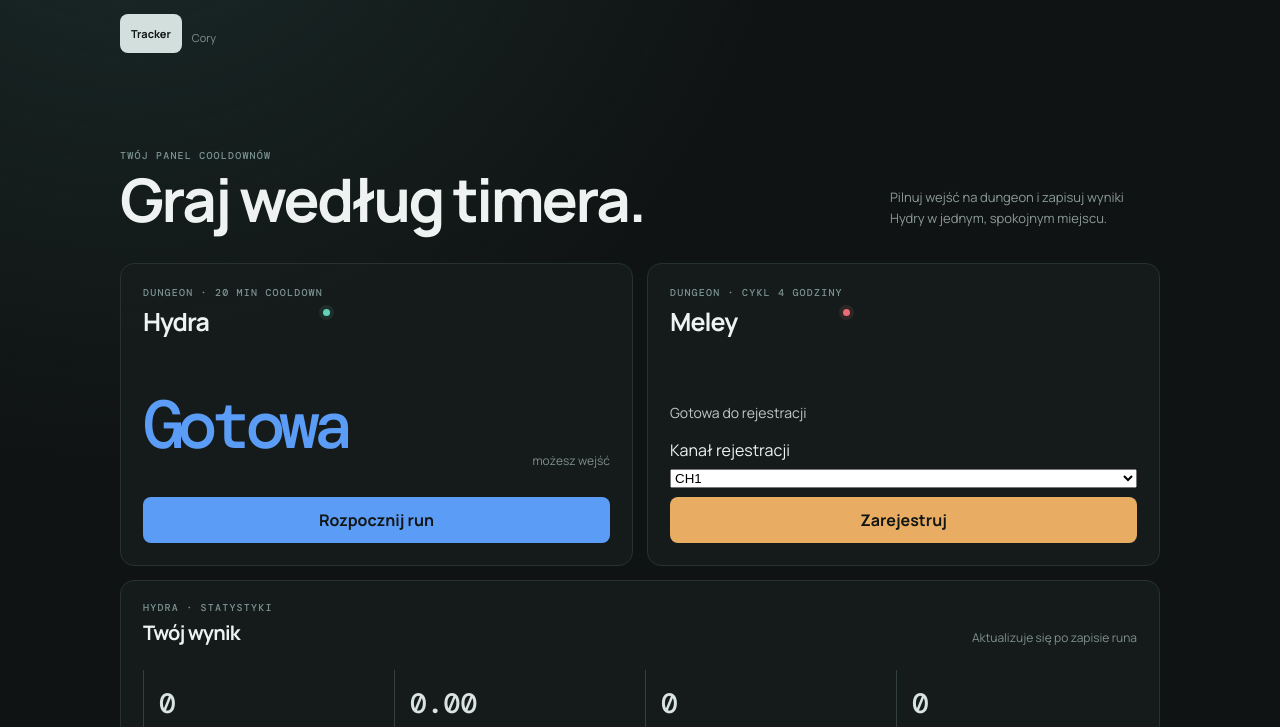
Test: dashboard › saves Hydra run on plain HTTP without UUID API
Click the button "Rozpocznij run".
click(376, 520)  # box [143,497,610,543]
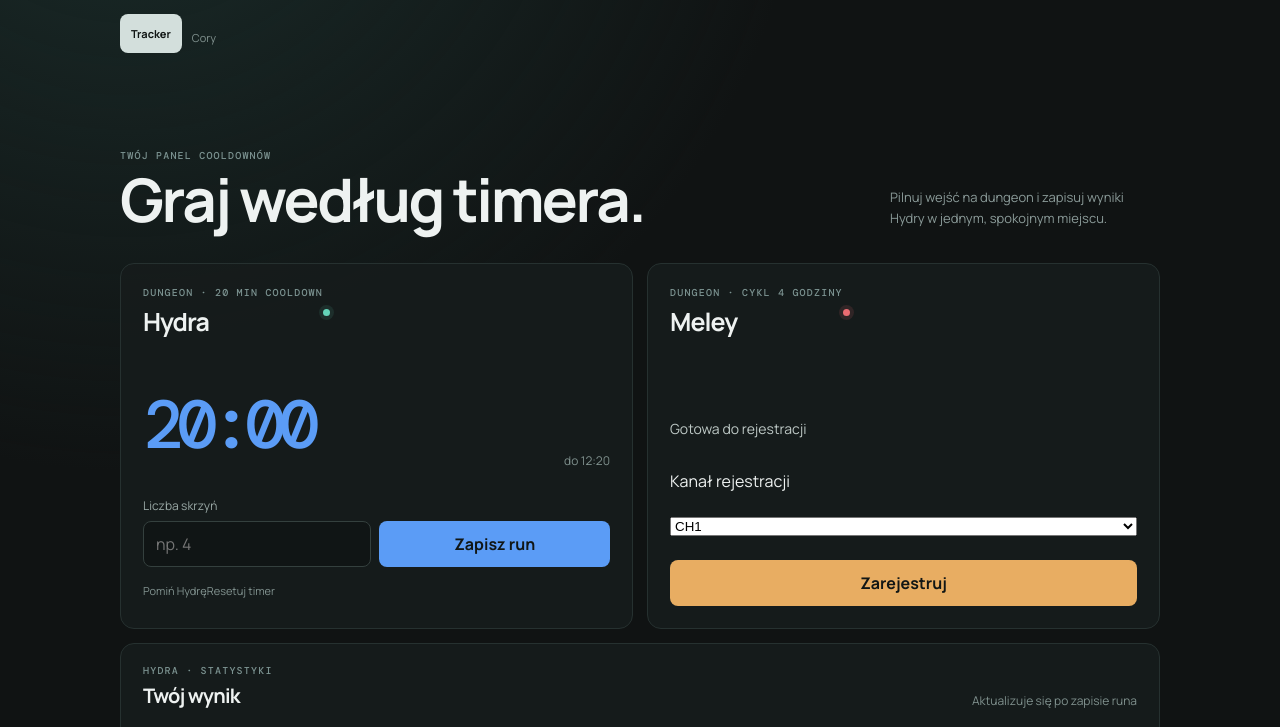
Type "4" into the number field labelled "Liczba skrzyń".
click(257, 544); type("4")  # box [143,521,371,567]
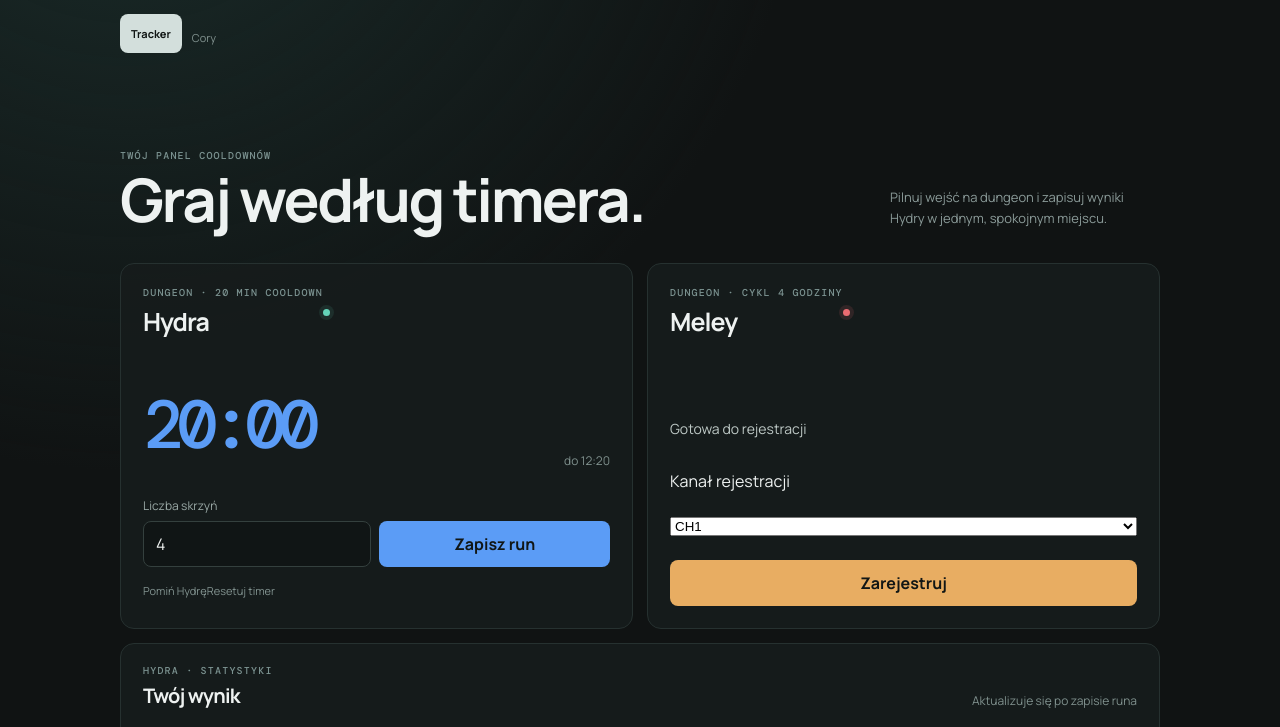
Click the button "Zapisz run".
click(495, 544)  # box [379,521,610,567]
(page scrolled)
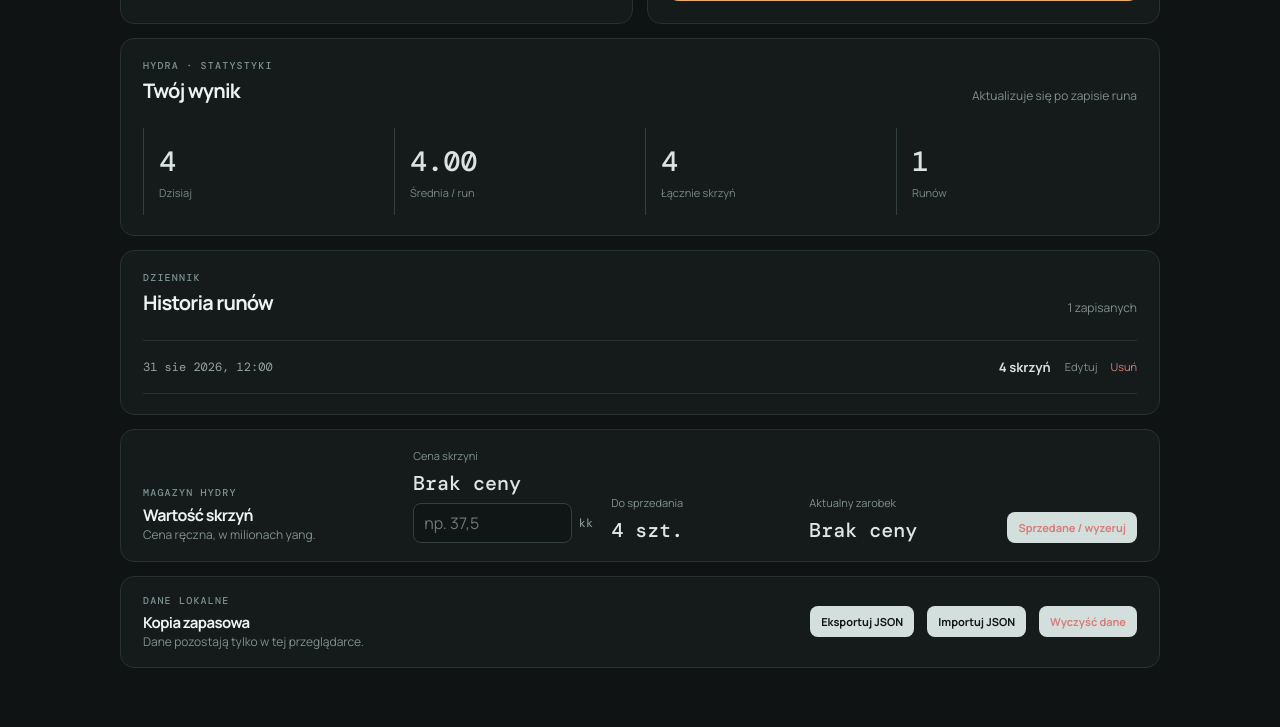
Expected: the text "4 skrzyń" is shown, [999,358,1051,376]
